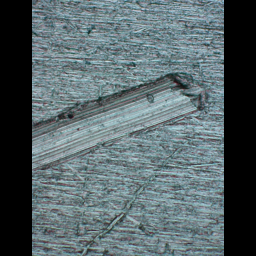d: (31, 68, 214, 174)
